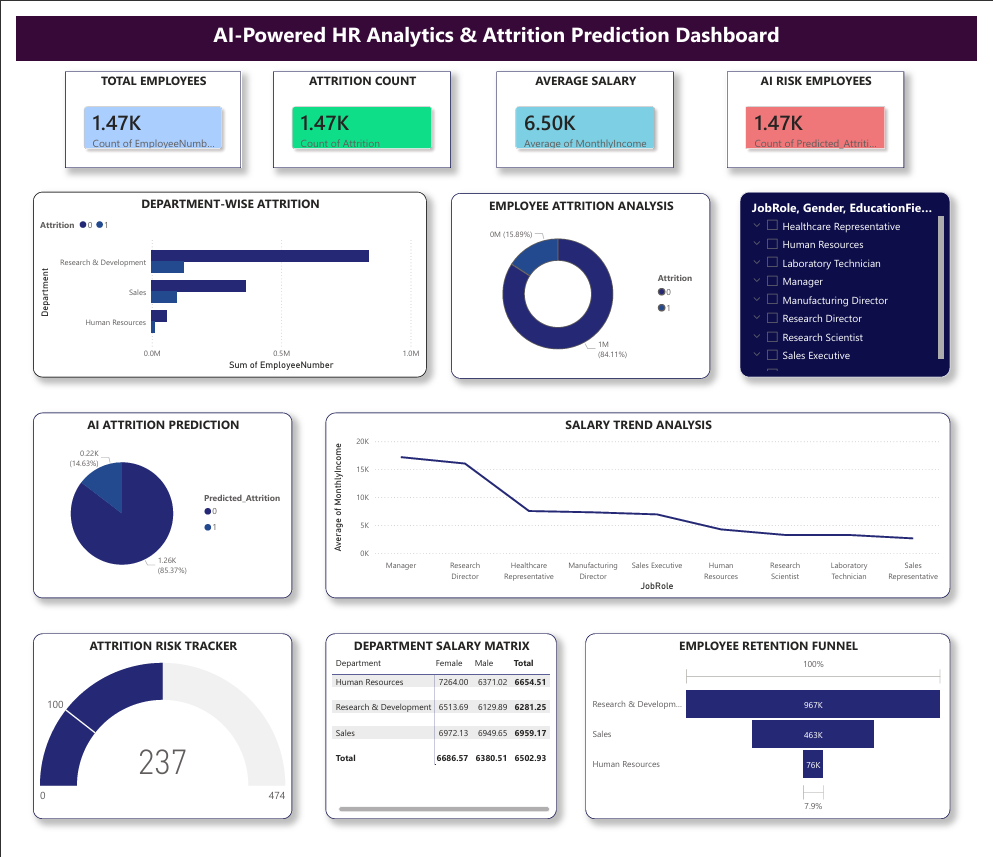

The dashboard page shown, as its layout file describes it:
{"tool":"powerbi","page":{"name":"Page 1","canvas":[1500,1300],"ordinal":0},"visuals":[{"type":"textbox","box":[0,0,1500,68.6],"z":0},{"type":"cardVisual","title":"TOTAL EMPLOYEES","fields":{"Data":["CountNonNull(HR_Analytics_Predicted.EmployeeNumber)"]},"box":[75.7,85.7,275.7,151.4],"z":1000},{"type":"cardVisual","title":"ATTRITION COUNT","fields":{"Data":["CountNonNull(HR_Analytics_Predicted.Attrition)"]},"box":[401.4,85.7,277.1,151.4],"z":2000},{"type":"cardVisual","title":"AVERAGE SALARY","fields":{"Data":["Avg(HR_Analytics_Predicted.MonthlyIncome)"]},"box":[750,85.7,277.1,151.4],"z":3000},{"type":"cardVisual","title":"AI RISK EMPLOYEES","fields":{"Data":["CountNonNull(HR_Analytics_Predicted.Predicted_Attrition)"]},"box":[1110,85.7,277.1,151.4],"z":4000},{"type":"donutChart","title":"EMPLOYEE ATTRITION ANALYSIS","fields":{"Category":["HR_Analytics_Predicted.Attrition"],"Y":["Sum(HR_Analytics_Predicted.EmployeeNumber)"]},"box":[678.6,275.7,405.7,290],"z":5000},{"type":"clusteredBarChart","title":" DEPARTMENT-WISE ATTRITION","fields":{"Category":["HR_Analytics_Predicted.Department"],"Y":["Sum(HR_Analytics_Predicted.EmployeeNumber)"],"Series":["HR_Analytics_Predicted.Attrition"]},"box":[25.7,274.3,615.7,290],"z":6000},{"type":"lineChart","title":"SALARY TREND ANALYSIS","fields":{"Category":["HR_Analytics_Predicted.JobRole"],"Y":["Avg(HR_Analytics_Predicted.MonthlyIncome)"]},"box":[482.9,618.6,975.7,290],"z":7000},{"type":"pieChart","title":" AI ATTRITION PREDICTION","fields":{"Category":["HR_Analytics_Predicted.Predicted_Attrition"],"Y":["CountNonNull(HR_Analytics_Predicted.EmployeeNumber)"]},"box":[25.7,618.6,405.7,290],"z":8000},{"type":"slicer","fields":{"Values":["HR_Analytics_Predicted.JobRole","HR_Analytics_Predicted.Gender","HR_Analytics_Predicted.EducationField","HR_Analytics_Predicted.Department"]},"box":[1130,274.3,328.6,290],"z":9000},{"type":"gauge","title":"ATTRITION RISK TRACKER","fields":{"Y":["Sum(HR_Analytics_Predicted.Attrition)"],"TargetValue":["HR_Analytics_Predicted.ATTRITION_TARGET"]},"box":[25.7,964.3,405.7,290],"z":10000},{"type":"pivotTable","title":"DEPARTMENT SALARY MATRIX","fields":{"Rows":["HR_Analytics_Predicted.Department"],"Columns":["HR_Analytics_Predicted.Gender"],"Values":["Avg(HR_Analytics_Predicted.MonthlyIncome)"]},"box":[482.9,964.3,361.4,290],"z":11000},{"type":"funnel","title":"EMPLOYEE RETENTION FUNNEL","fields":{"Category":["HR_Analytics_Predicted.Department"],"Y":["Sum(HR_Analytics_Predicted.EmployeeNumber)"]},"box":[888.6,964.3,570,290],"z":11001}]}

Visuals, with their boxes in screenshot pixels (x1, y1, x2, y2), scaled from the page's 1500x1300 canvas onto the 993x857 screenshot:
textbox: {"left": 0, "top": 0, "right": 992, "bottom": 45}
"TOTAL EMPLOYEES" cardVisual: {"left": 50, "top": 56, "right": 233, "bottom": 156}
"ATTRITION COUNT" cardVisual: {"left": 266, "top": 56, "right": 449, "bottom": 156}
"AVERAGE SALARY" cardVisual: {"left": 496, "top": 56, "right": 680, "bottom": 156}
"AI RISK EMPLOYEES" cardVisual: {"left": 735, "top": 56, "right": 918, "bottom": 156}
"EMPLOYEE ATTRITION ANALYSIS" donutChart: {"left": 449, "top": 182, "right": 718, "bottom": 373}
" DEPARTMENT-WISE ATTRITION" clusteredBarChart: {"left": 17, "top": 181, "right": 425, "bottom": 372}
"SALARY TREND ANALYSIS" lineChart: {"left": 320, "top": 408, "right": 966, "bottom": 599}
" AI ATTRITION PREDICTION" pieChart: {"left": 17, "top": 408, "right": 286, "bottom": 599}
slicer - HR_Analytics_Predicted.JobRole x HR_Analytics_Predicted.Gender: {"left": 748, "top": 181, "right": 966, "bottom": 372}
"ATTRITION RISK TRACKER" gauge: {"left": 17, "top": 636, "right": 286, "bottom": 827}
"DEPARTMENT SALARY MATRIX" pivotTable: {"left": 320, "top": 636, "right": 559, "bottom": 827}
"EMPLOYEE RETENTION FUNNEL" funnel: {"left": 588, "top": 636, "right": 966, "bottom": 827}
